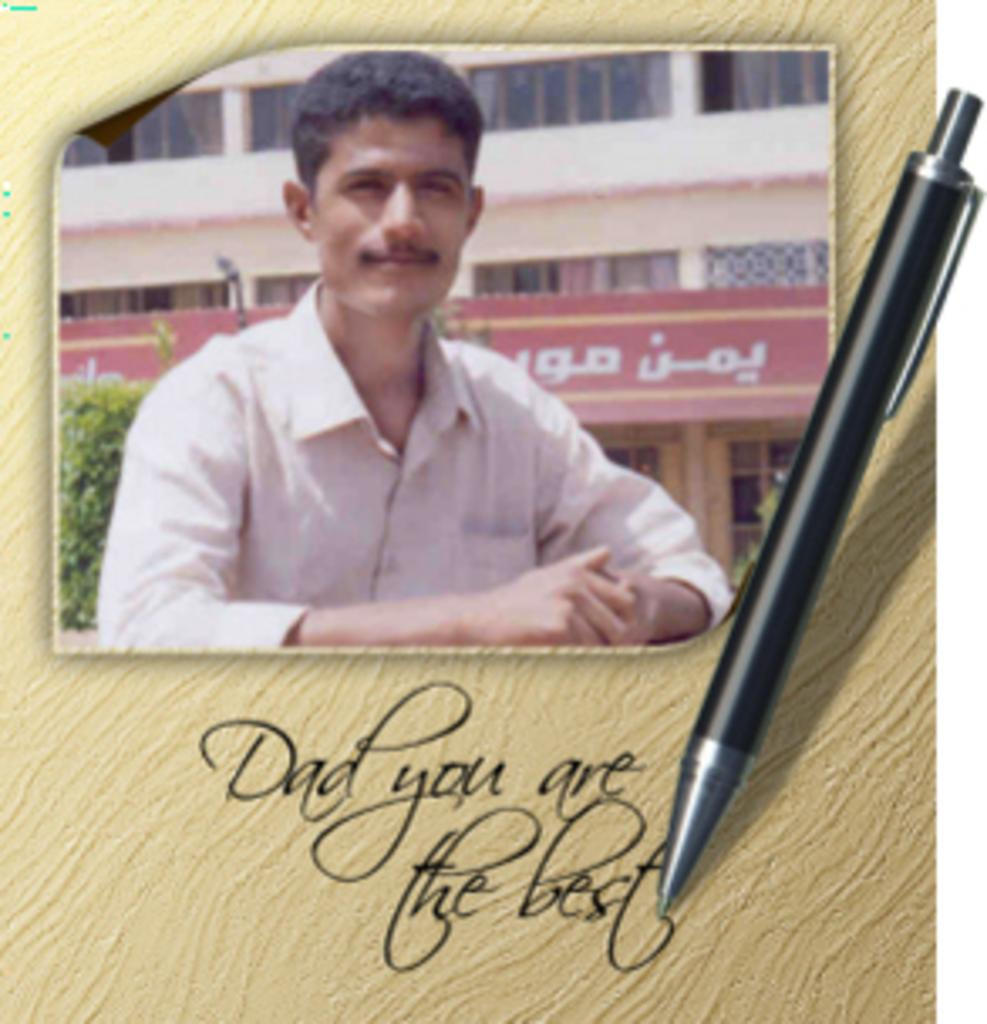pen: (654, 81, 984, 920)
